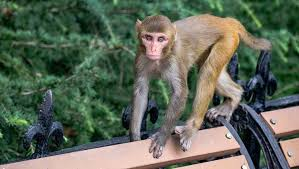monkey: (71, 12, 285, 145)
